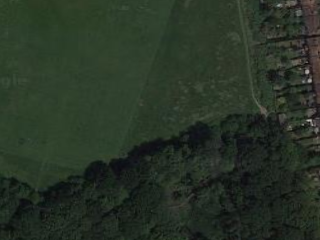Tree: (84, 189, 122, 222), (135, 189, 173, 222), (194, 181, 232, 214), (240, 175, 278, 208), (205, 149, 243, 182), (155, 155, 191, 186), (32, 206, 68, 237), (284, 209, 320, 240), (224, 207, 260, 238)
